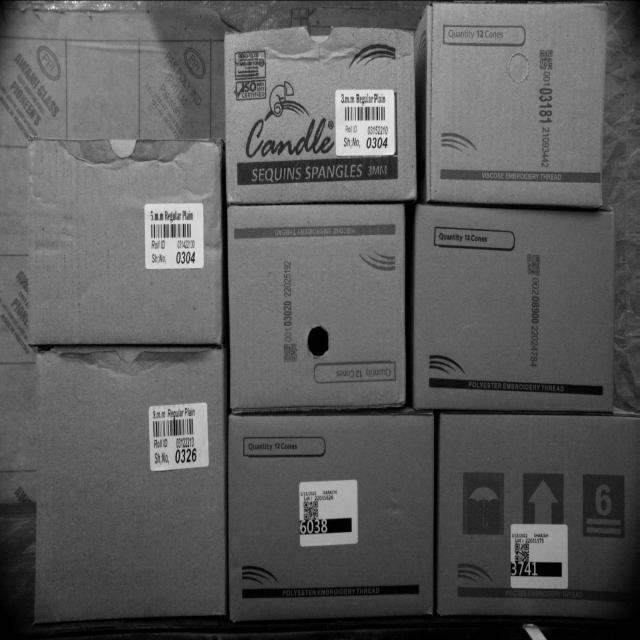cardboxes: (36, 349, 228, 623), (228, 411, 436, 618), (410, 208, 618, 410), (436, 415, 640, 618), (30, 137, 226, 346), (425, 0, 610, 202), (230, 205, 410, 412), (224, 28, 416, 204)
